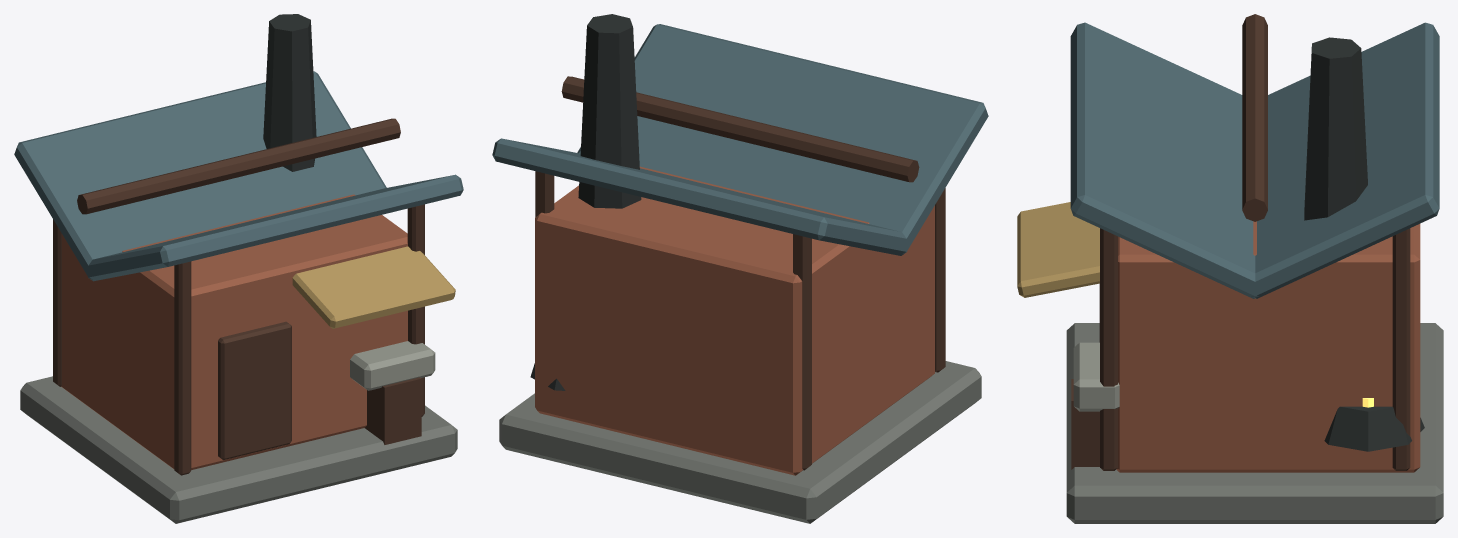
The model's file is building_workshop.glb.
3 views of the same model, side by side, from view 1: azimuth 30°, elevation 25°; view 2: azimuth 150°, elevation 25°; view 3: azimuth 270°, elevation 25° (orthographic). The views are drawn at different scales.
Parts seen in each view (by area): view 1: WorkshopWalls, WorkshopRoof_Back, StoneFloor, WorkshopRoof_Front, WorkshopDoor, Awning, WorkshopRoof_Ridge, Chimney.001, CornerPost.008, AnvilBase, Anvil, CornerPost.010 (+1 smaller); view 2: WorkshopWalls, WorkshopRoof_Front, StoneFloor, WorkshopRoof_Back, Chimney.001, WorkshopRoof_Ridge, CornerPost.009, CornerPost.008, CornerPost.011; view 3: WorkshopWalls, WorkshopRoof_Front, WorkshopRoof_Back, StoneFloor, Chimney.001, Awning, WorkshopRoof_Ridge, CornerPost.011, CornerPost.010, ForgeBowl, Anvil, AnvilBase.
Boxes of the visible parts, box(x1,y1,x2,y2) form: WorkshopWalls: box(61, 194, 407, 469); WorkshopRoof_Back: box(14, 71, 386, 279); StoneFloor: box(20, 376, 457, 523); WorkshopRoof_Front: box(88, 174, 463, 281); WorkshopDoor: box(218, 321, 291, 459); Awning: box(292, 246, 455, 328); WorkshopRoof_Ridge: box(77, 118, 400, 214); Chimney.001: box(263, 14, 316, 171); CornerPost.008: box(174, 261, 191, 475); AnvilBase: box(365, 377, 421, 444); Anvil: box(350, 341, 435, 390); CornerPost.010: box(407, 204, 424, 416); WorkshopWalls: box(535, 166, 934, 475); WorkshopRoof_Front: box(577, 24, 988, 254); StoneFloor: box(499, 361, 981, 523); WorkshopRoof_Back: box(492, 138, 909, 255); Chimney.001: box(578, 14, 641, 208); WorkshopRoof_Ridge: box(561, 76, 919, 182); CornerPost.009: box(793, 234, 811, 470); CornerPost.008: box(935, 188, 945, 372); CornerPost.011: box(535, 171, 554, 217); WorkshopWalls: box(1116, 221, 1420, 472); WorkshopRoof_Front: box(1070, 22, 1262, 298); WorkshopRoof_Back: box(1248, 22, 1439, 298); StoneFloor: box(1066, 323, 1443, 523); Chimney.001: box(1304, 37, 1367, 220); Awning: box(1017, 202, 1099, 297); WorkshopRoof_Ridge: box(1242, 14, 1267, 221); CornerPost.011: box(1392, 228, 1410, 470); CornerPost.010: box(1100, 228, 1117, 470); ForgeBowl: box(1324, 406, 1424, 451); Anvil: box(1073, 342, 1119, 411); AnvilBase: box(1071, 379, 1099, 469).
Size of the model in its own units: 1.85 by 2.08 by 1.81.
